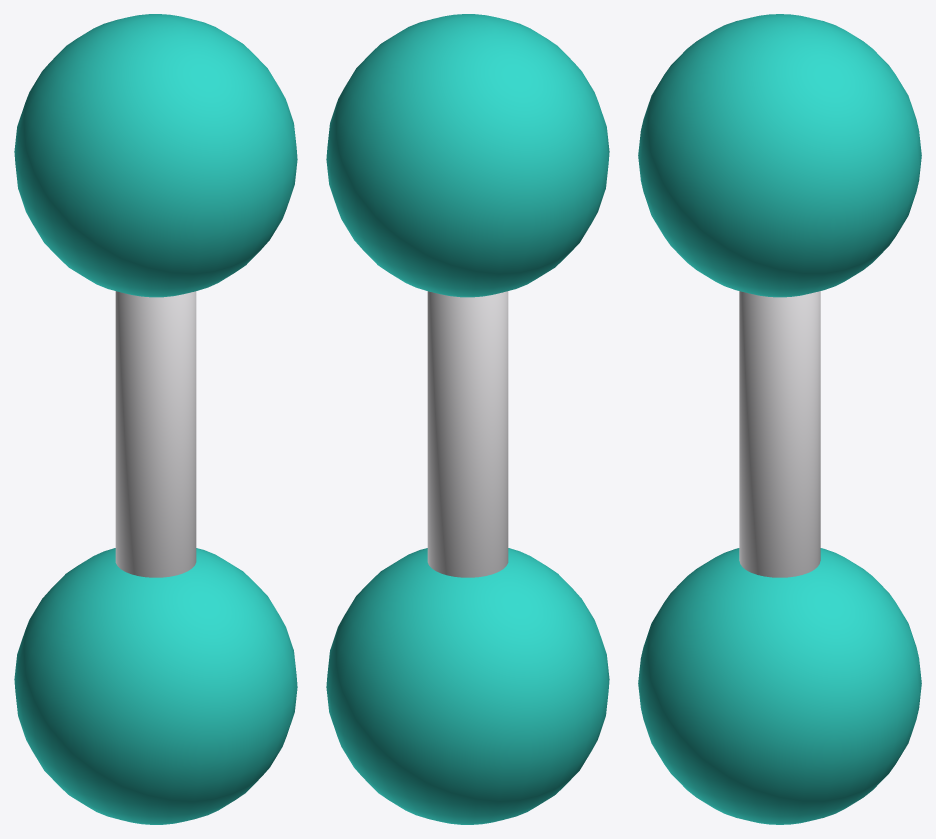
File: Hydrogen.fbx
The picture shows the model from 3 angles, left to right: view 1: azimuth 30°, elevation 25°; view 2: azimuth 150°, elevation 25°; view 3: azimuth 270°, elevation 25°; orthographic projection.
Visible parts, largest first — view 1: Sphere, Sphere.001, Cylinder; view 2: Sphere, Sphere.001, Cylinder; view 3: Sphere, Sphere.001, Cylinder.
Boxes of the visible parts, bbox=[...] form: Sphere: bbox=[14, 14, 297, 297]; Sphere.001: bbox=[14, 548, 297, 824]; Cylinder: bbox=[115, 291, 196, 577]; Sphere: bbox=[326, 14, 609, 297]; Sphere.001: bbox=[326, 548, 609, 824]; Cylinder: bbox=[427, 291, 508, 577]; Sphere: bbox=[638, 14, 921, 297]; Sphere.001: bbox=[638, 548, 921, 824]; Cylinder: bbox=[739, 291, 820, 577].
Size of the model in its own units: 140 by 427 by 140.
